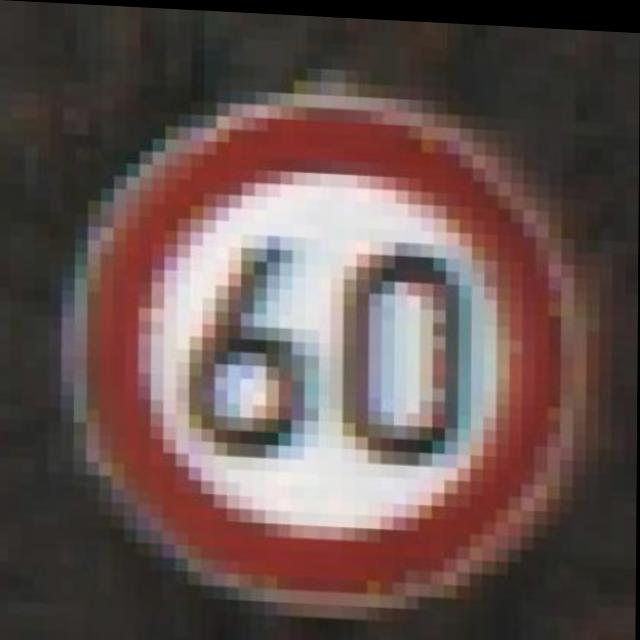limit60: (44, 58, 622, 639)
